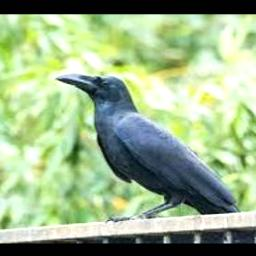Crow: (54, 73, 256, 243)
